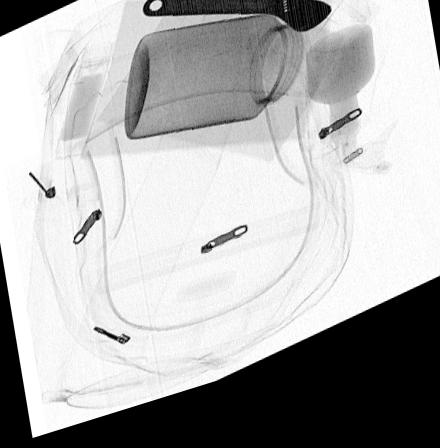Wrench: (140, 0, 333, 53)
